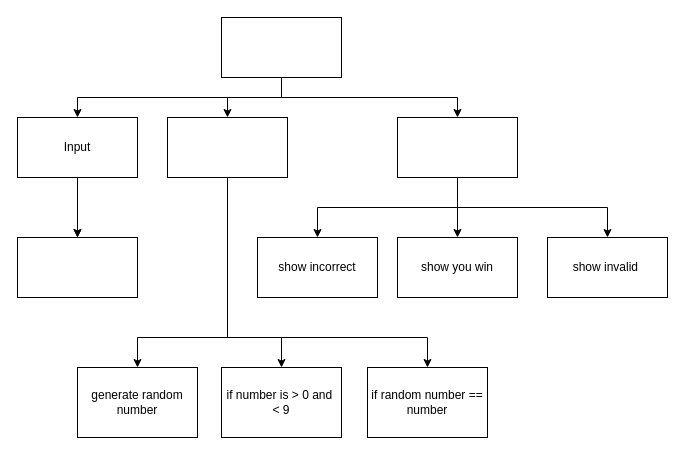
The diagram is 685 pixels wide and 455 high, and some of its shapes have lost their labels. Here are the shapes that lost their labels. From the top down, the centre of each, then its label:
At point (281, 47): "number game".
At point (227, 147): "Process".
At point (457, 147): "Output".
At point (77, 267): "input integer".
